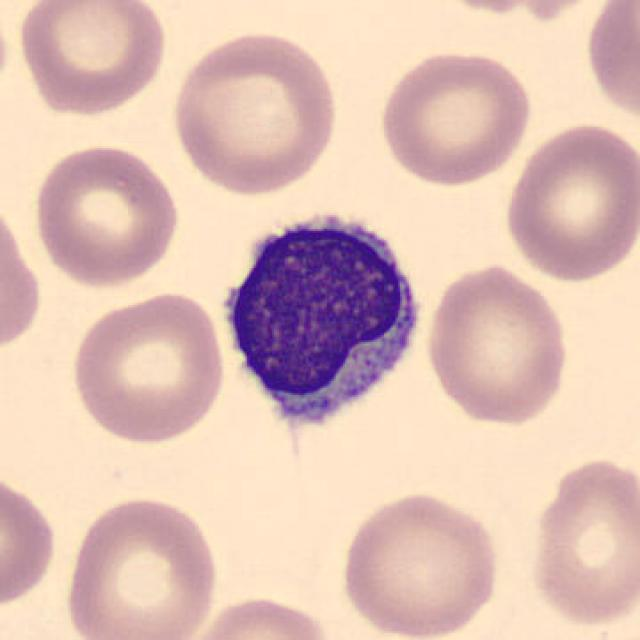Lymphocyte: (208, 196, 432, 457)
RBC: (167, 26, 343, 198), (66, 286, 229, 448), (334, 486, 504, 640), (422, 259, 572, 430), (60, 490, 224, 640), (500, 116, 638, 286), (29, 139, 183, 291), (375, 45, 537, 188), (523, 453, 638, 631), (12, 0, 170, 118), (0, 465, 60, 613), (178, 590, 338, 640), (0, 192, 46, 362), (582, 0, 638, 127), (416, 0, 594, 16), (507, 0, 617, 21), (0, 3, 12, 111)
